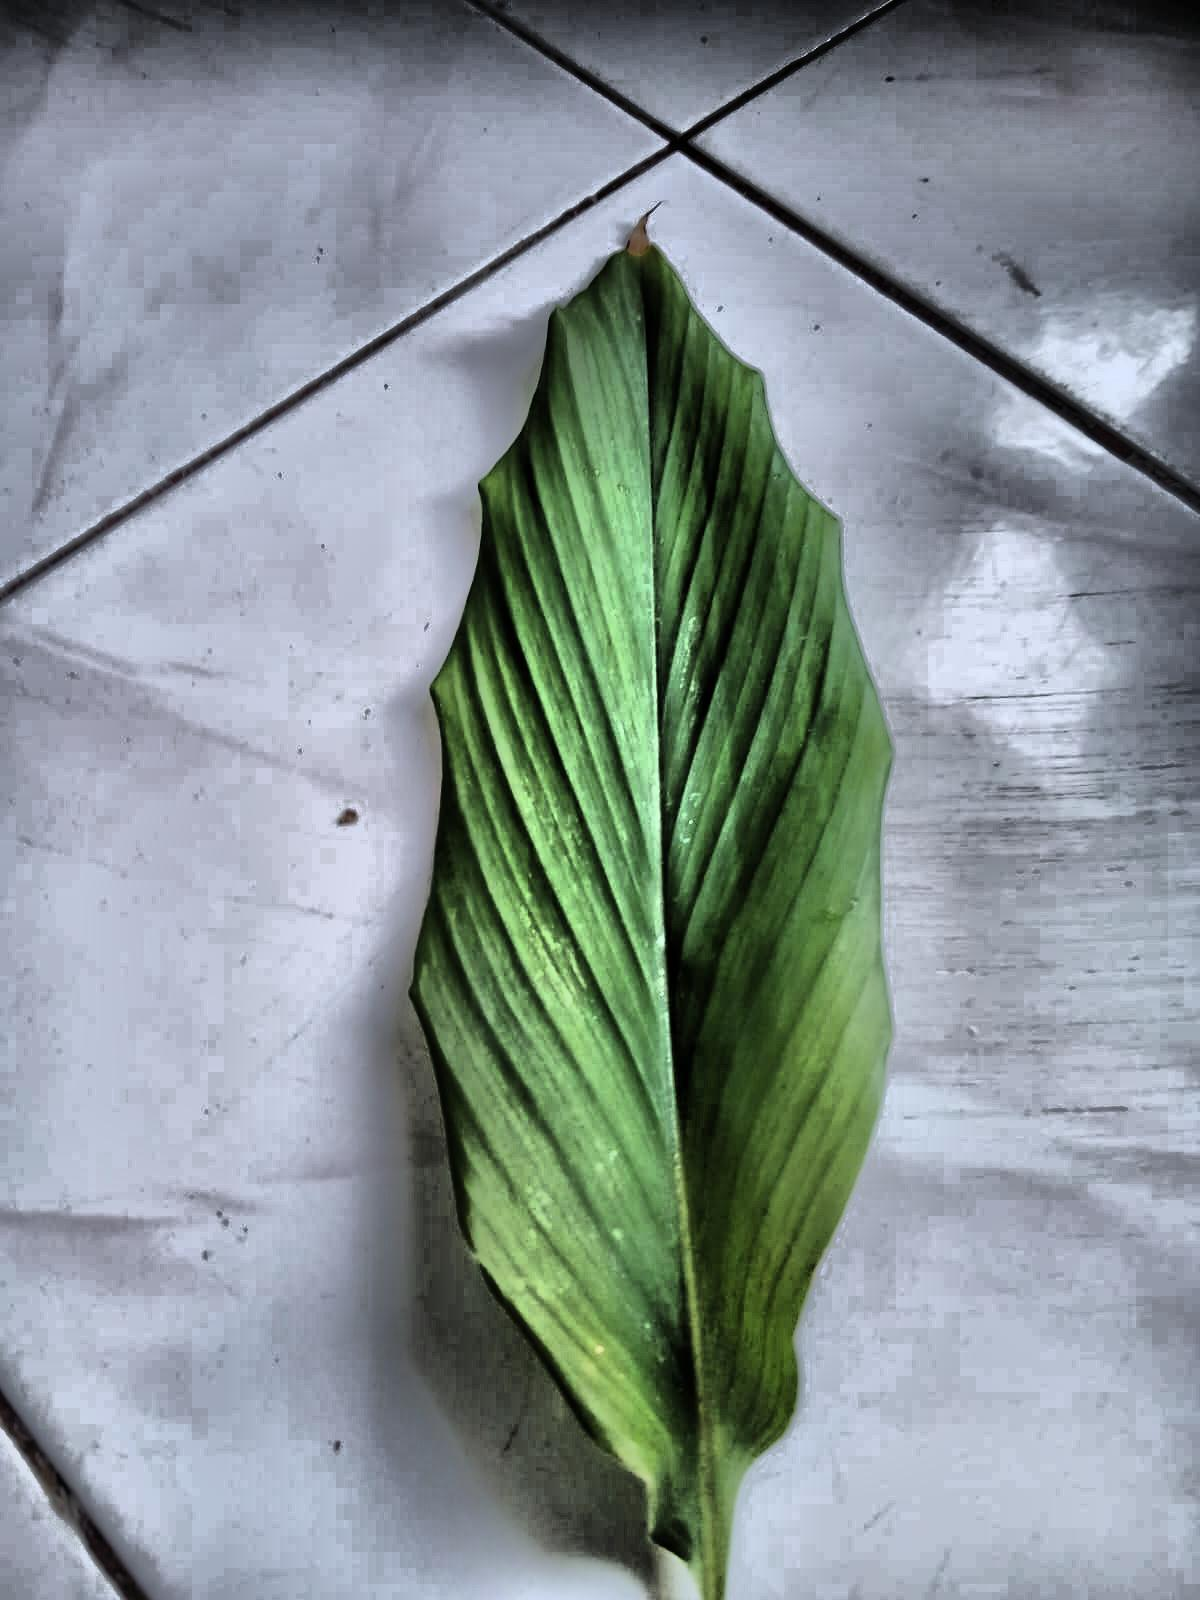daun kunyit: (412, 242, 891, 1599)
